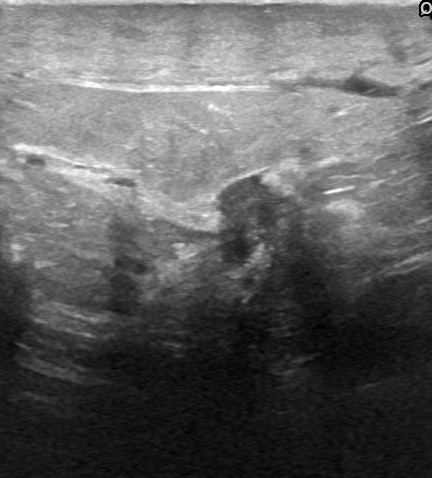Malignant: (206, 169, 294, 256)
